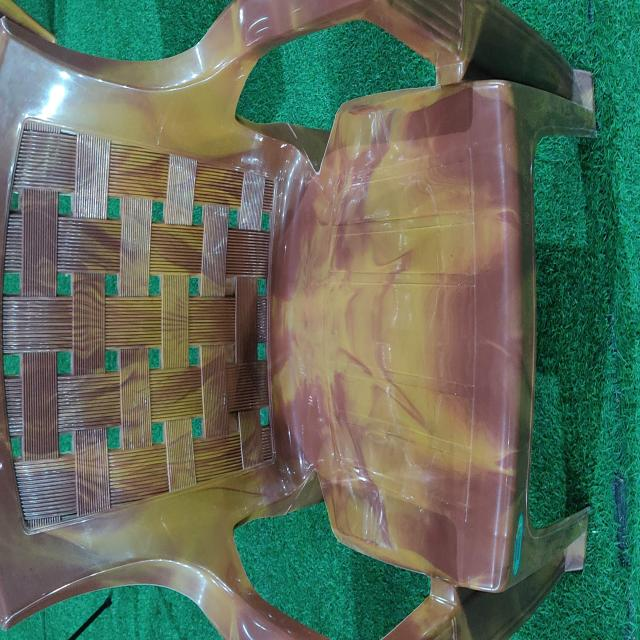Chair: (1, 1, 596, 638)
